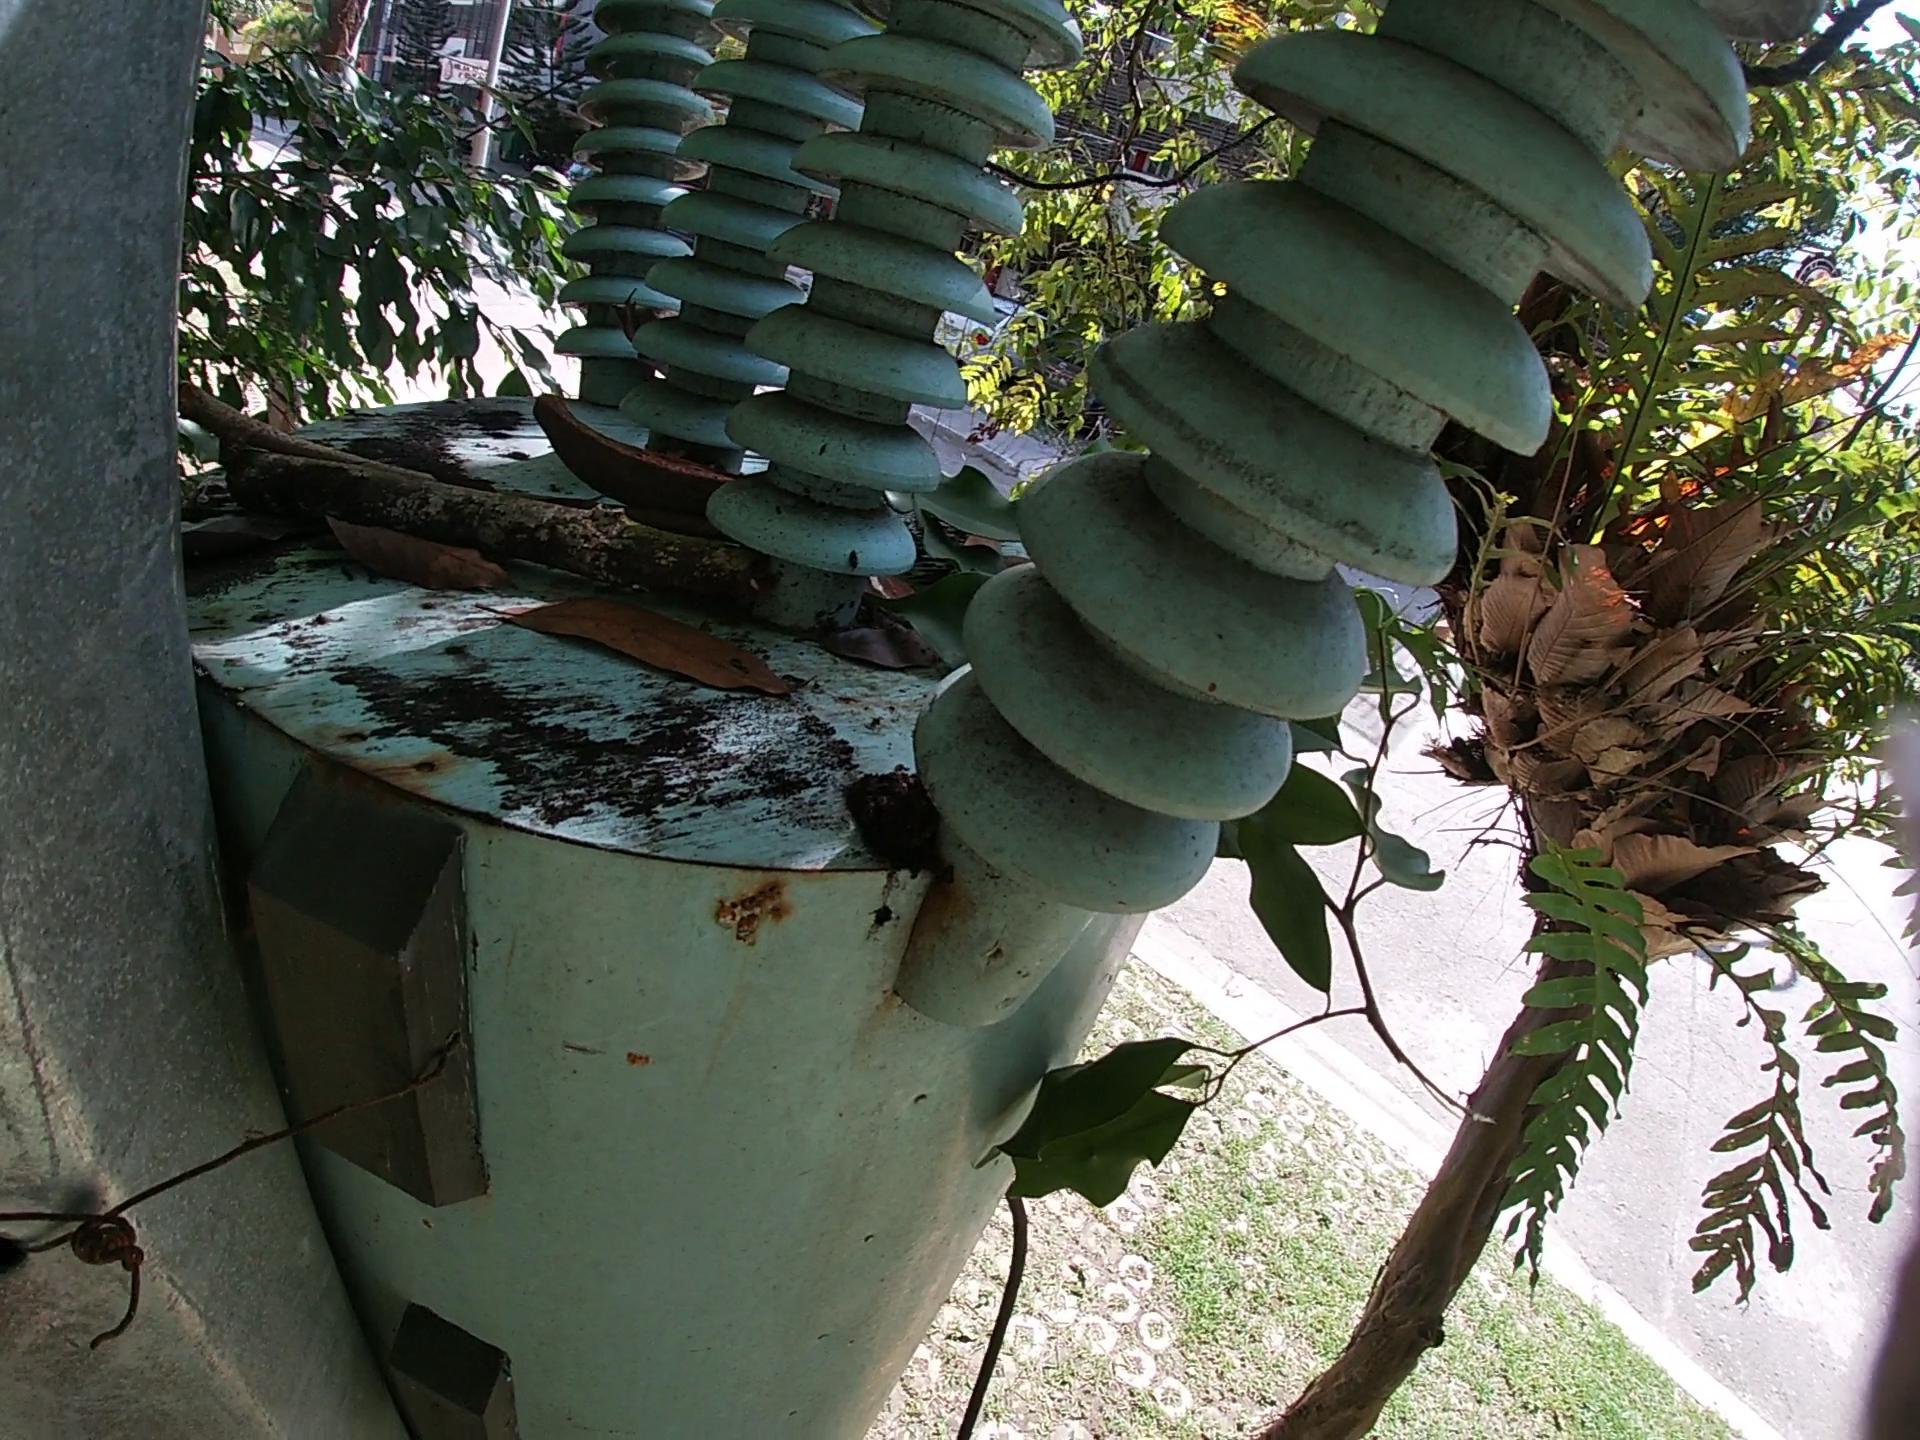branch with leaves: (971, 579, 1495, 1215)
leaf: (472, 593, 807, 709), (321, 510, 522, 610), (792, 622, 948, 679), (172, 510, 305, 563)
mahogany fruit: (531, 387, 753, 540)
tree branch: (221, 439, 780, 619), (169, 380, 431, 481)
